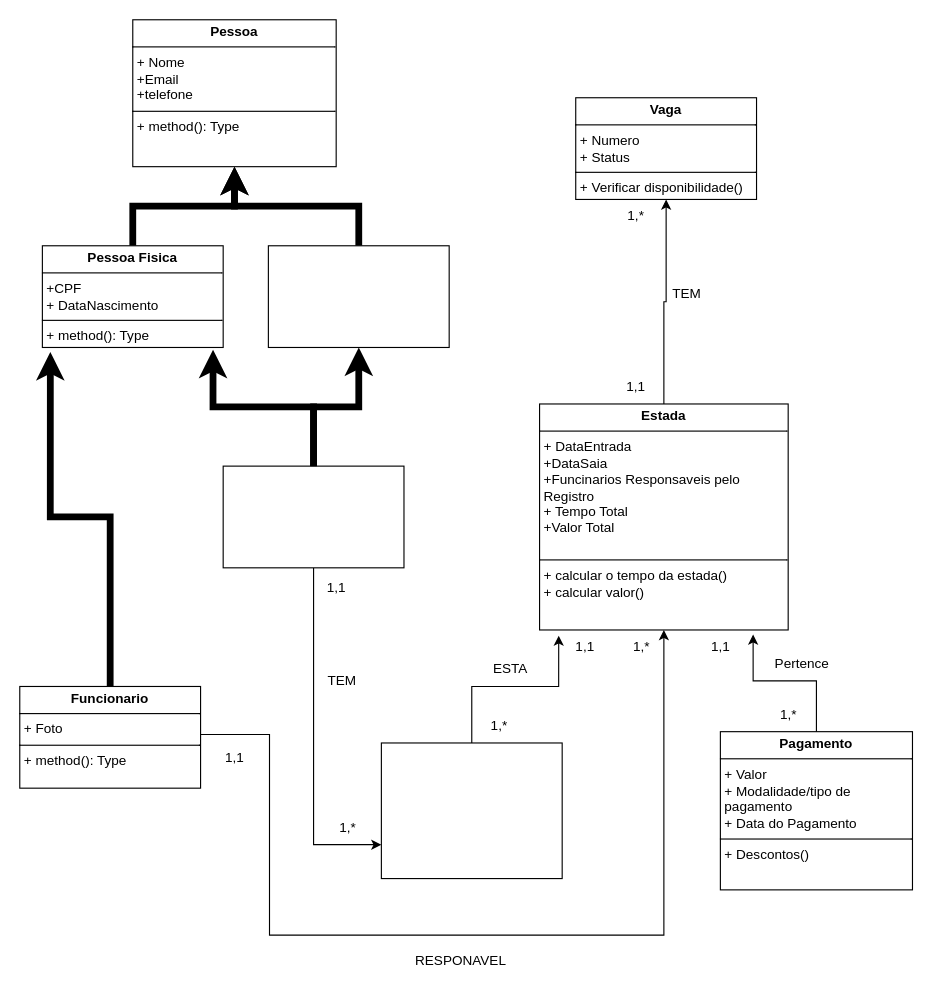
Some shapes in this 932 by 998 pixel diagram are drawn without their labels. The shapes that lost their labels are listed below. From the top down, each one's box as (x1, y1, x2, y2) in pixels, then its label:
(267, 245, 449, 347): Pessoa Juridica + CNPJ + method(): Type
(222, 465, 404, 568): Cliente + tipo + method(): Type
(380, 742, 562, 879): Veiculo + Placa + Marca + Modelo + Cor + method(): Type
